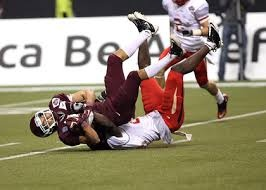falling: (32, 10, 174, 153)
